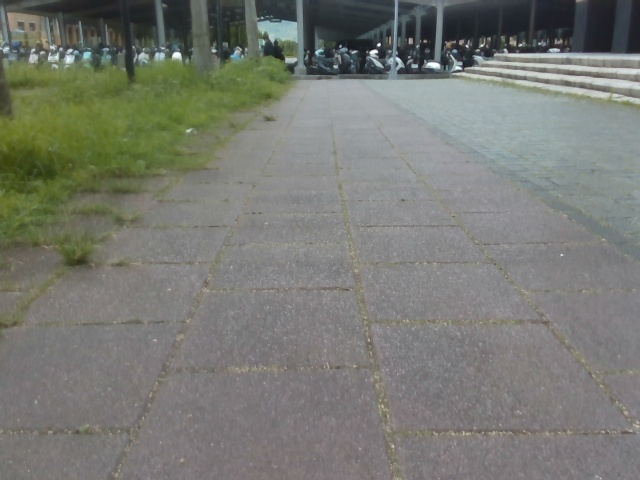grass: (0, 27, 297, 252)
road: (0, 68, 639, 479)
sidewalk: (426, 50, 639, 104)
